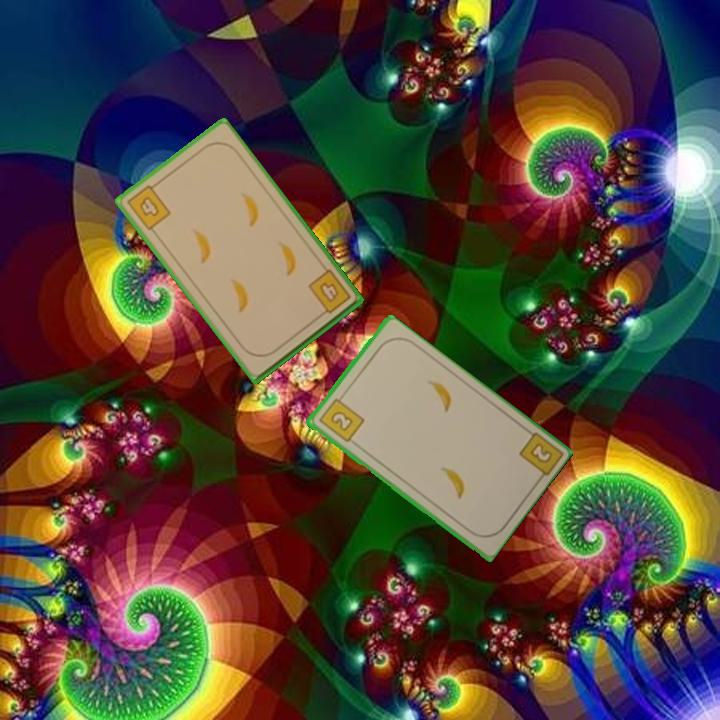2b: (315, 392, 367, 445), (526, 439, 555, 466)
4b: (123, 179, 174, 233), (304, 266, 353, 320)
